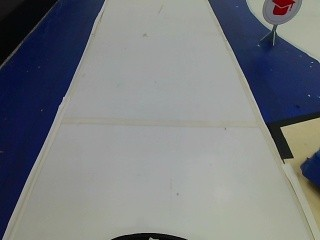school: (257, 0, 301, 24)
